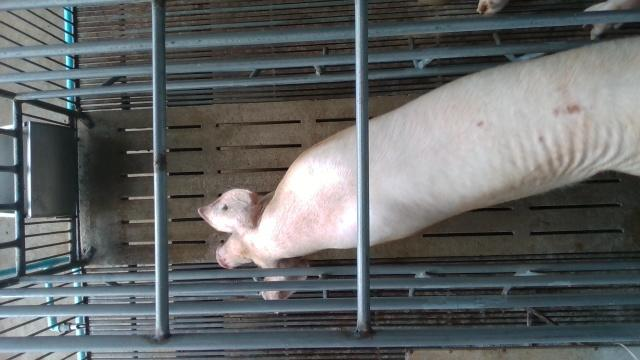piglet: (582, 0, 640, 40)
sow-stand: (197, 34, 640, 315)
